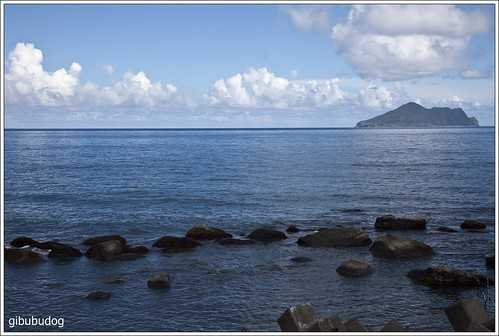turtleIsland: (353, 101, 481, 130)
